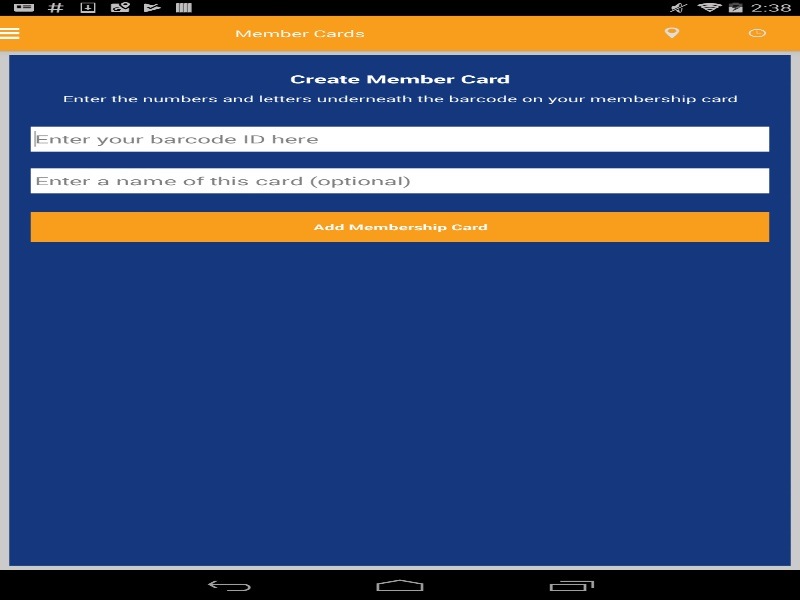Button: (30, 212, 769, 242)
Input: (30, 126, 769, 151), (30, 168, 769, 193)
